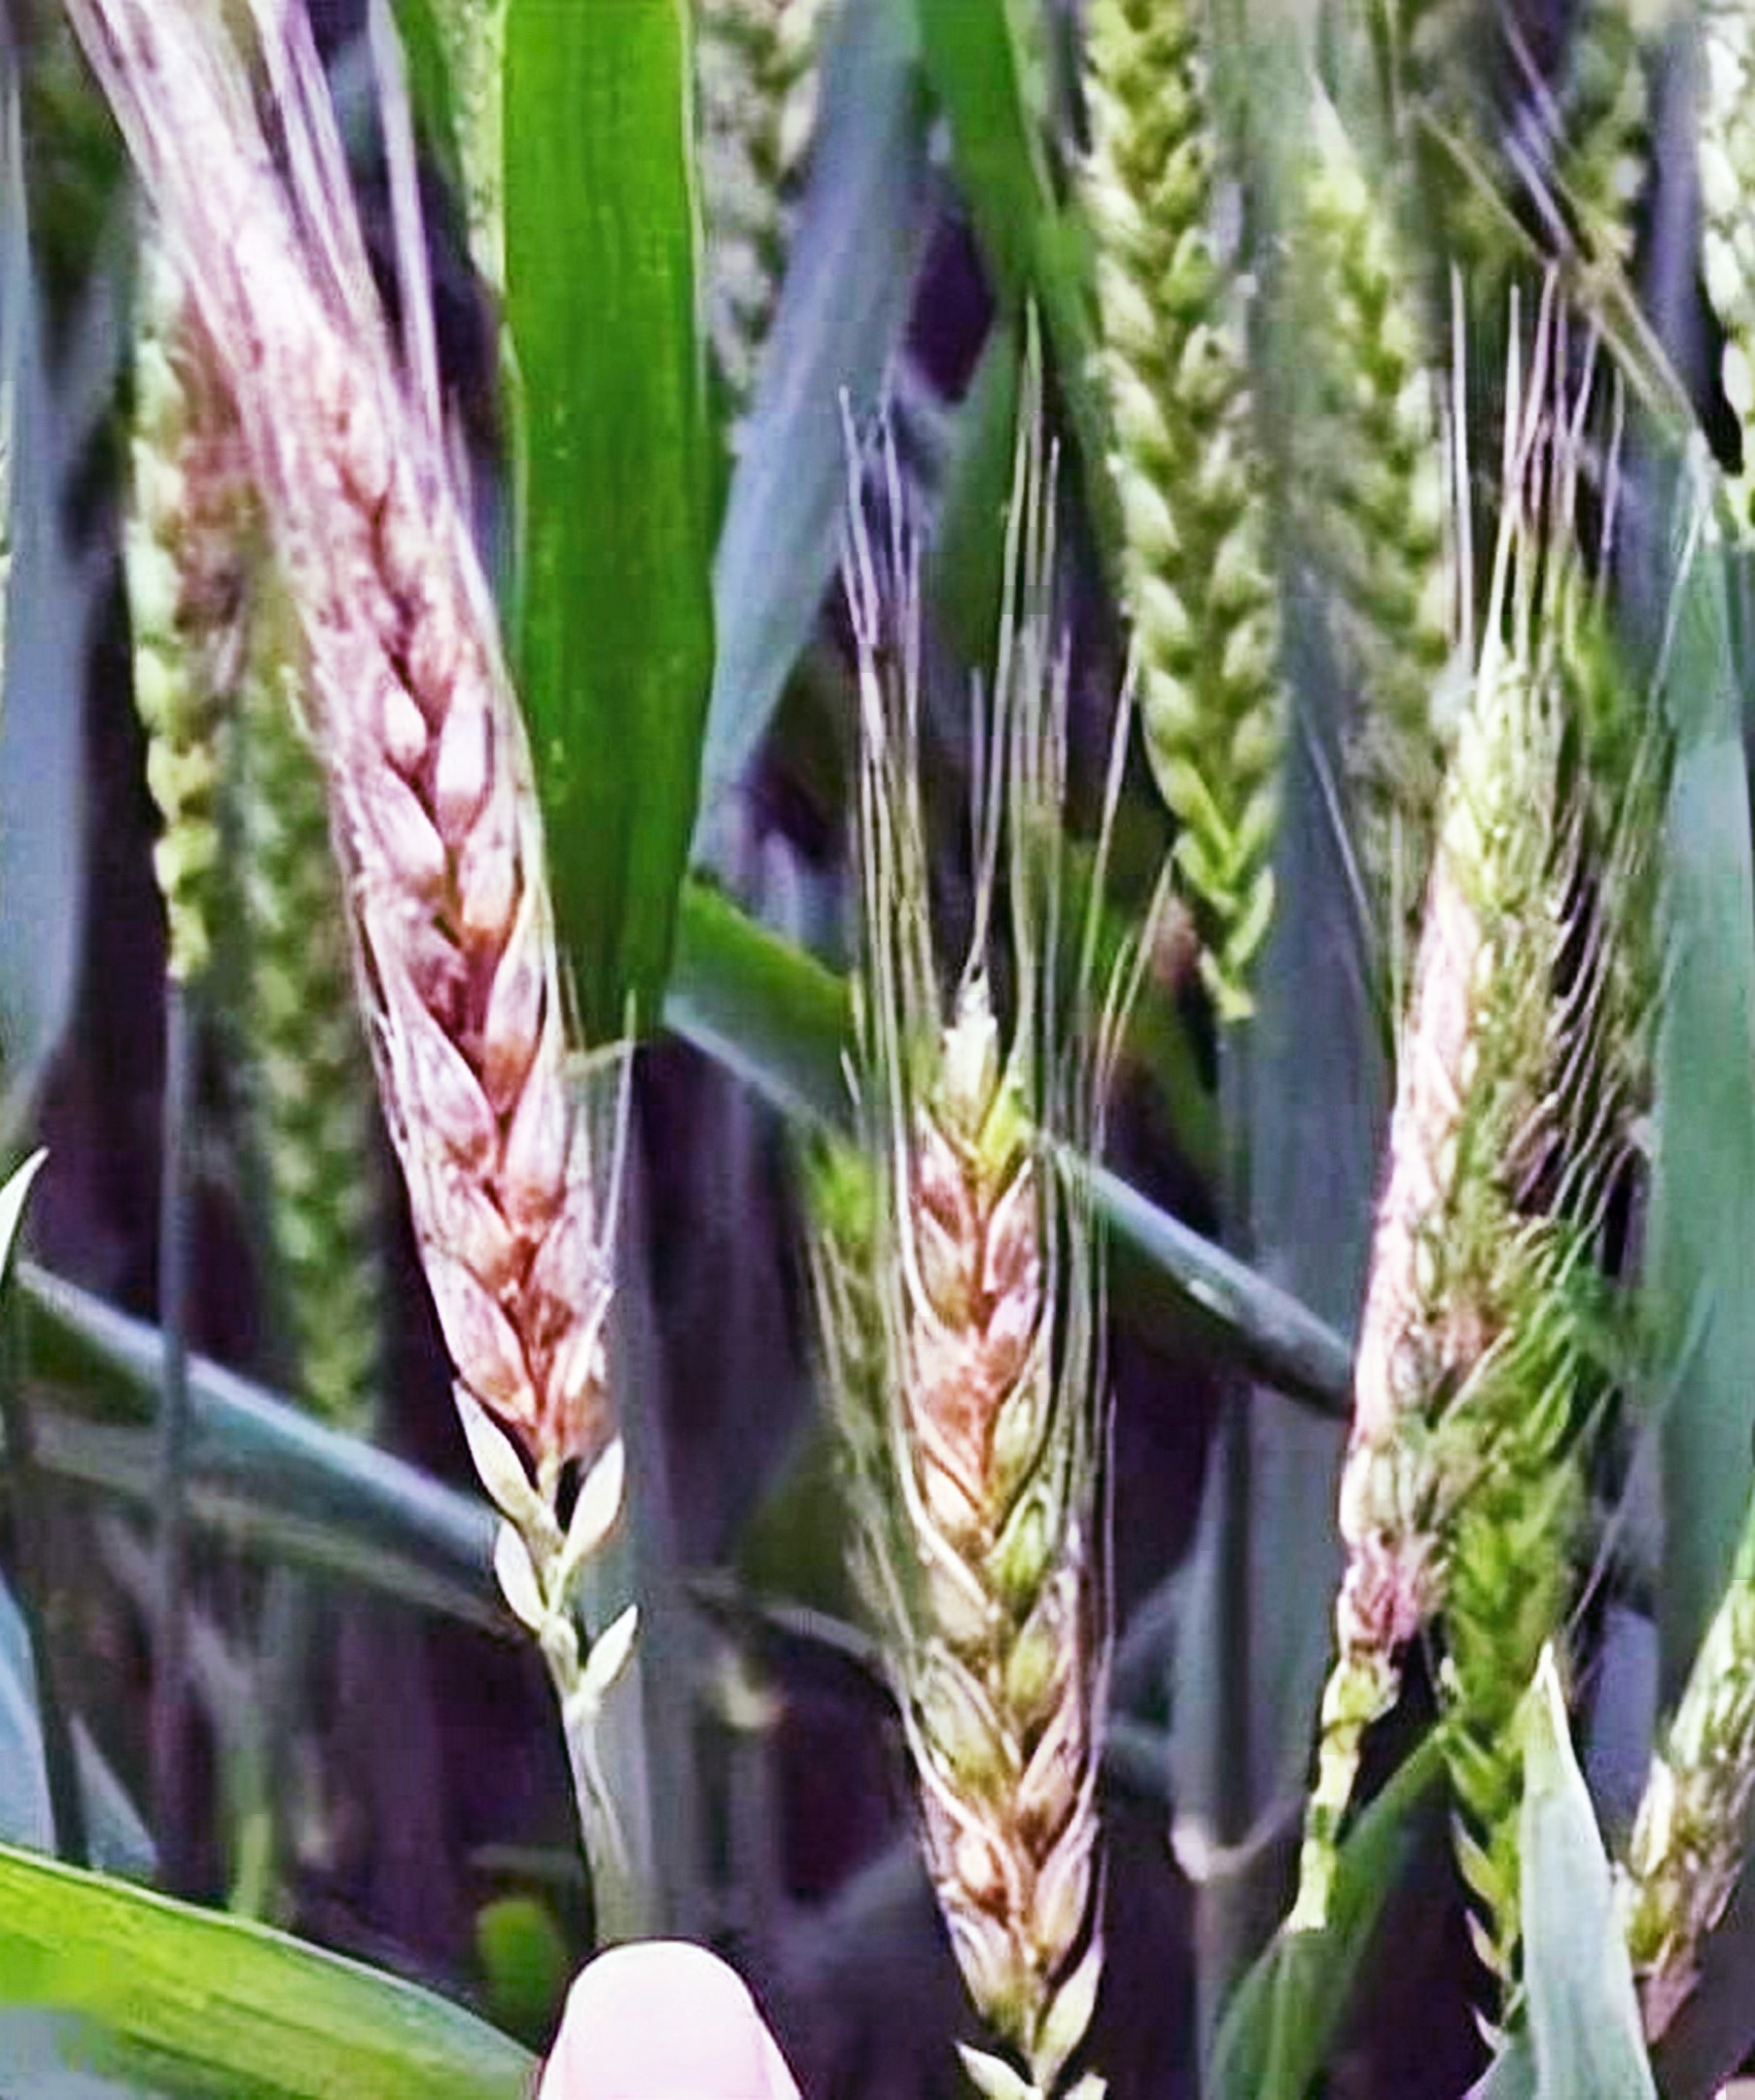Wheat scab: (187, 227, 654, 1641), (844, 980, 1151, 2046)
